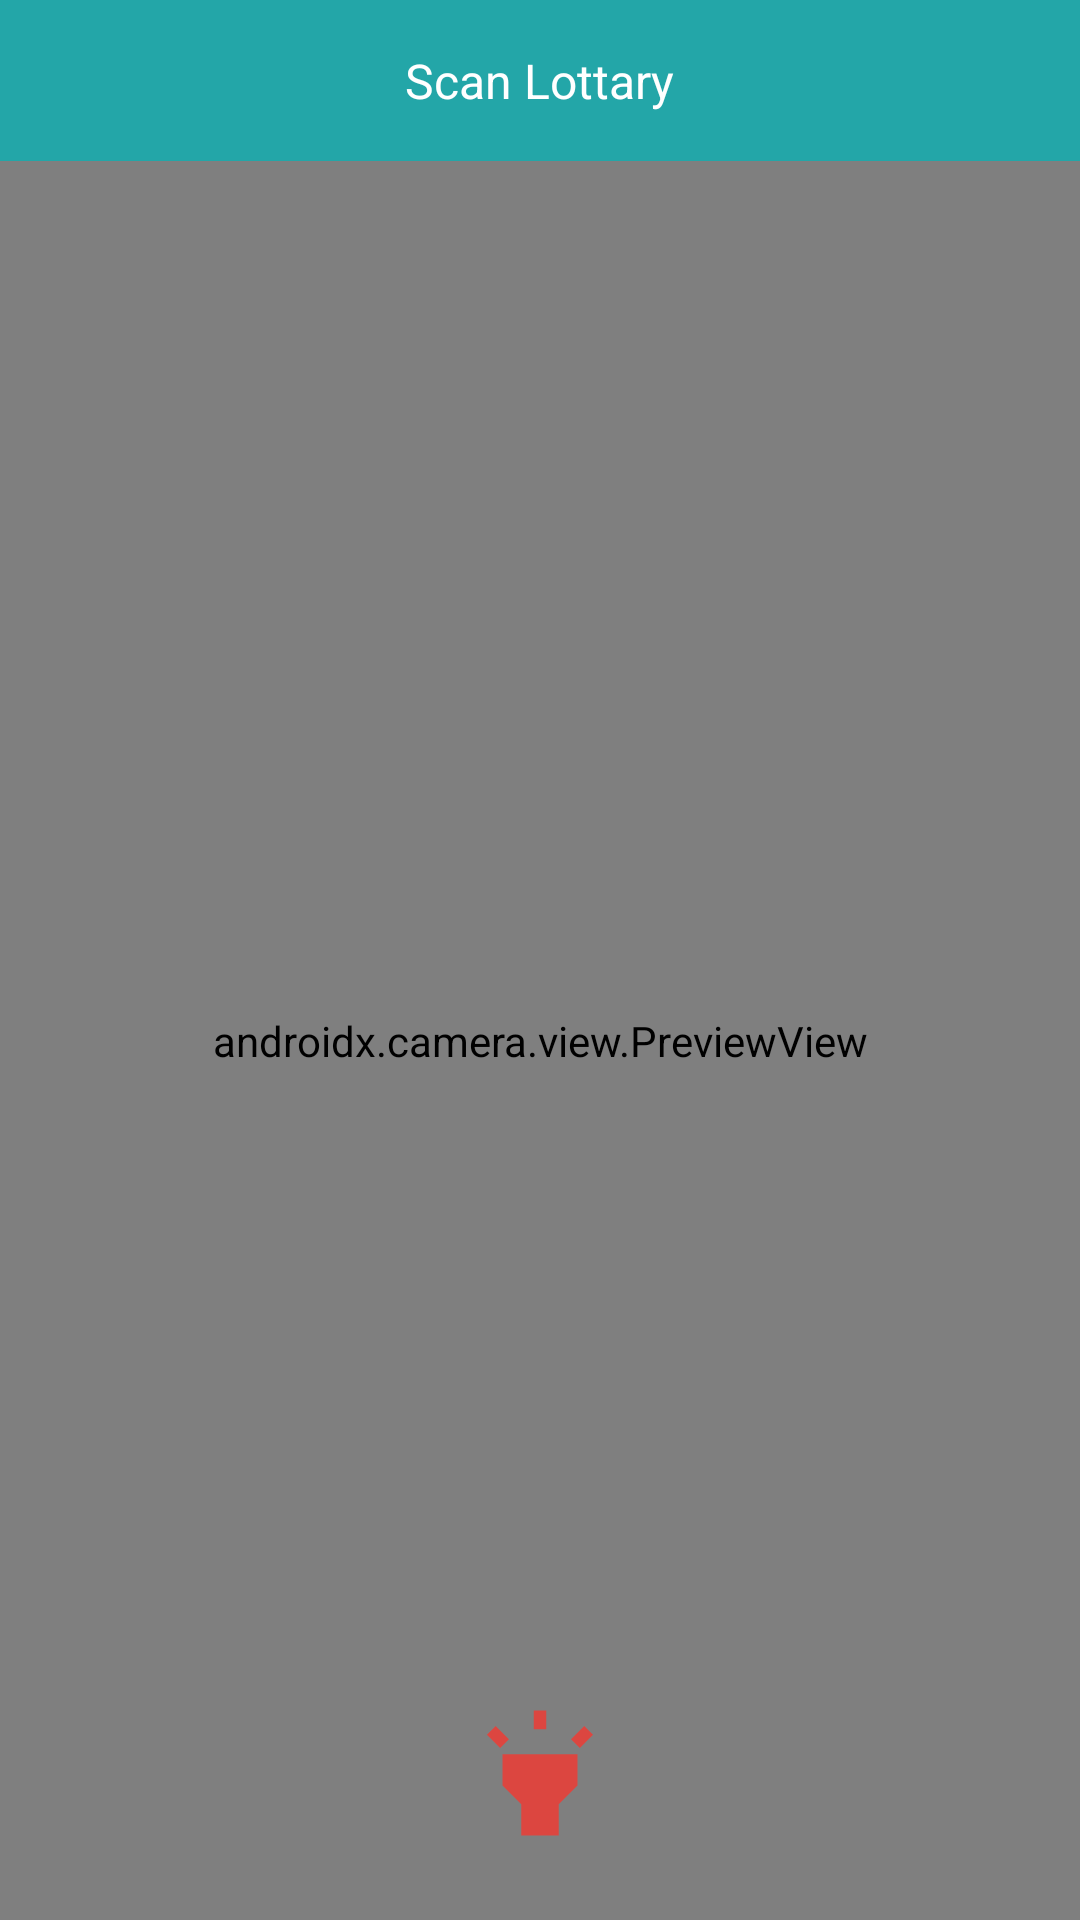

Screen size 1080 x 1920. Icon name, then its center in pixels as (x=x, y=y):
highlight: (x=540, y=1773)
